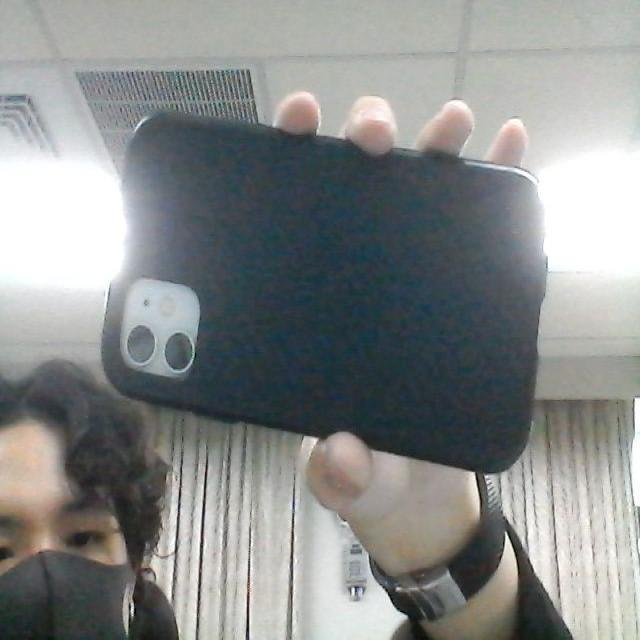Phone: (105, 108, 552, 472)
